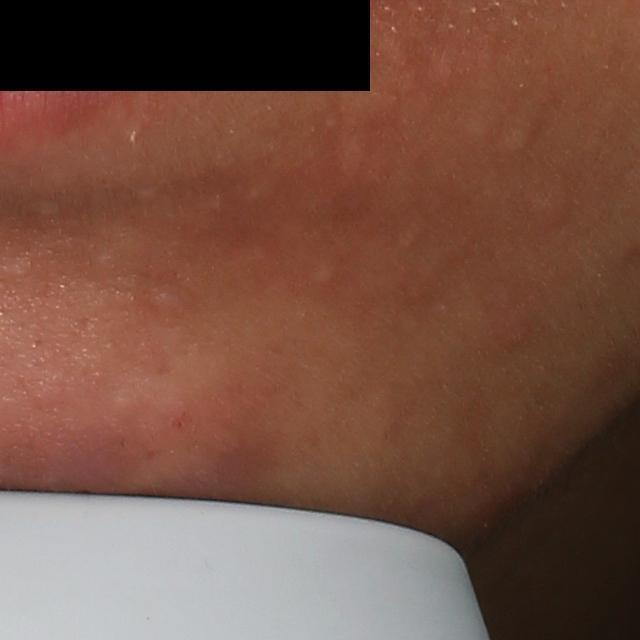comedo: (528, 183, 581, 234), (306, 260, 343, 294), (503, 121, 541, 152)
